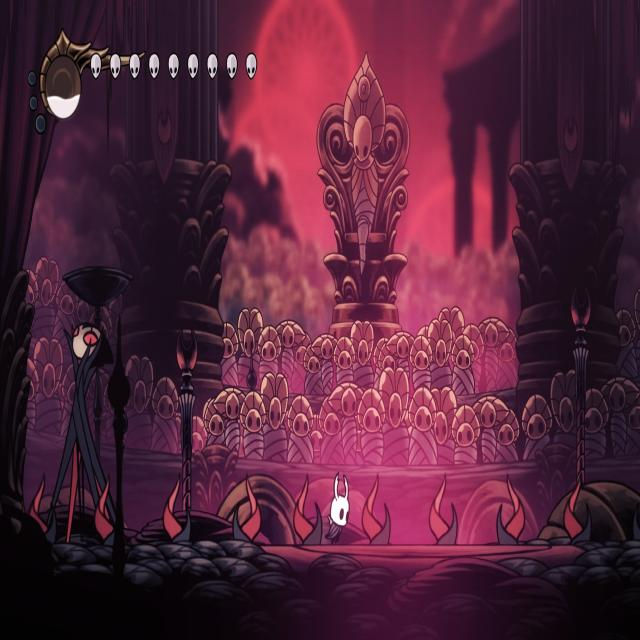Grimm: (48, 312, 116, 542)
Player: (324, 469, 353, 549)
Spikes: (361, 476, 391, 546), (292, 475, 322, 544), (29, 471, 57, 544), (428, 477, 458, 545), (496, 479, 526, 545), (233, 475, 263, 541), (92, 473, 118, 547), (165, 476, 192, 544), (564, 480, 592, 543)
